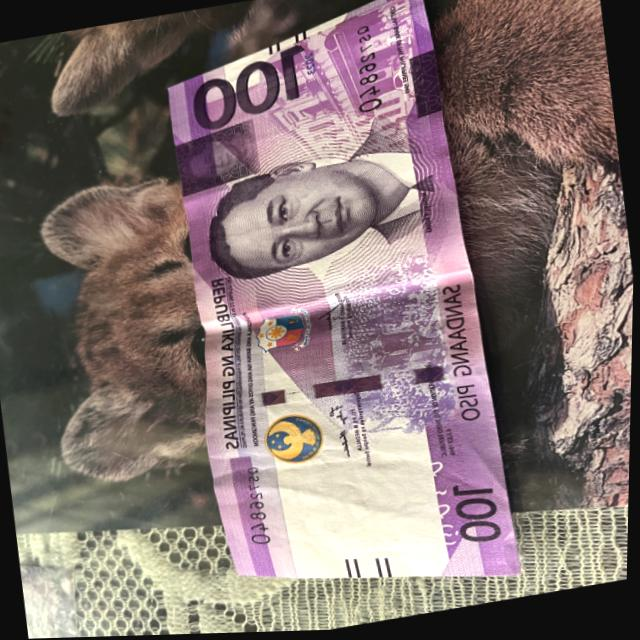concealed_value: (172, 118, 263, 198)
security_thread: (202, 356, 487, 422)
see_through_mark: (426, 459, 463, 552)
serial_number: (345, 23, 389, 117), (241, 464, 274, 549)
value: (186, 43, 313, 134)
value_watermark: (360, 531, 405, 557)
watermark: (260, 433, 435, 572)
